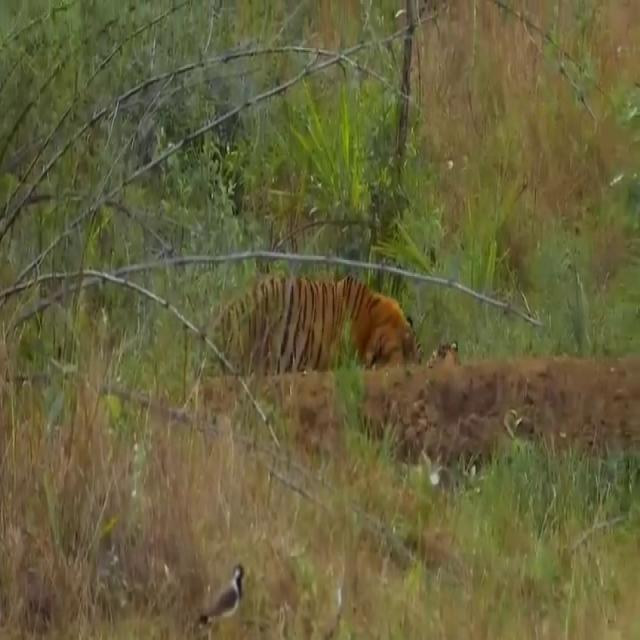tiger: (219, 272, 421, 368)
